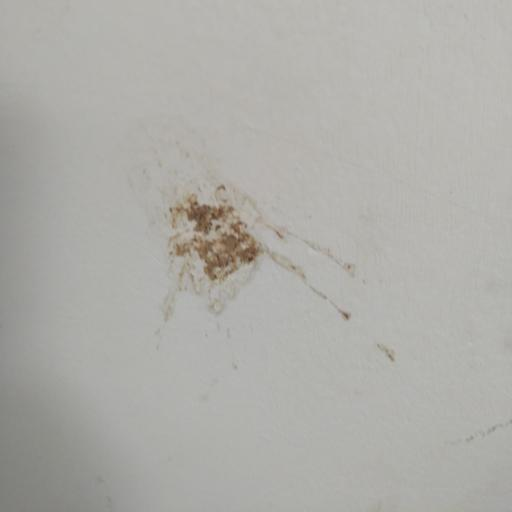stain: (129, 126, 418, 414)
